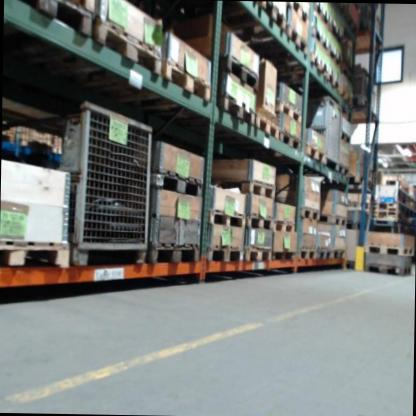pallet: (93, 16, 162, 79), (18, 0, 95, 39), (159, 58, 212, 104), (0, 239, 71, 271), (147, 170, 204, 199), (212, 177, 275, 200), (218, 55, 259, 90), (216, 92, 256, 126), (146, 242, 201, 263), (254, 1, 286, 32), (209, 208, 247, 228), (206, 243, 244, 263), (285, 25, 309, 56), (363, 261, 412, 276), (363, 242, 415, 256), (255, 110, 279, 140), (274, 99, 302, 124), (246, 212, 274, 231), (287, 1, 309, 25), (277, 130, 301, 152), (243, 245, 272, 263), (303, 145, 326, 164), (272, 219, 295, 233), (299, 206, 320, 221), (321, 214, 346, 226), (272, 251, 294, 261), (299, 247, 317, 259), (317, 248, 332, 260), (334, 164, 349, 176), (339, 131, 352, 143), (332, 249, 346, 257)
stillage: (71, 99, 150, 267), (298, 88, 353, 177)
